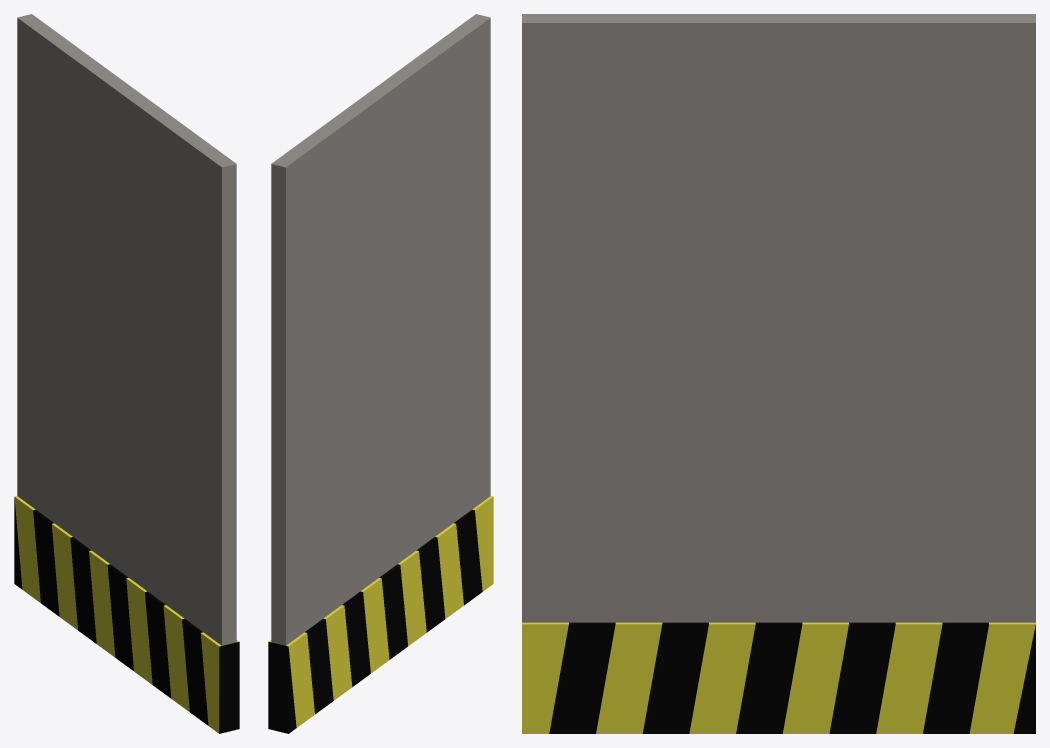
File: doorDanger.fbx
The picture shows the model from 3 angles, left to right: view 1: azimuth 30°, elevation 25°; view 2: azimuth 150°, elevation 25°; view 3: azimuth 270°, elevation 25°; orthographic projection. The views are drawn at different scales.
Parts seen in each view (by area): view 1: Wall; view 2: Wall; view 3: Wall.
Boxes of the visible parts, x1,y1,x2,y2 form: Wall: (14,14,239,733); Wall: (268,14,493,733); Wall: (522,14,1035,733).
Bounding box in the file's own units: 5.96 × 160 × 105.
